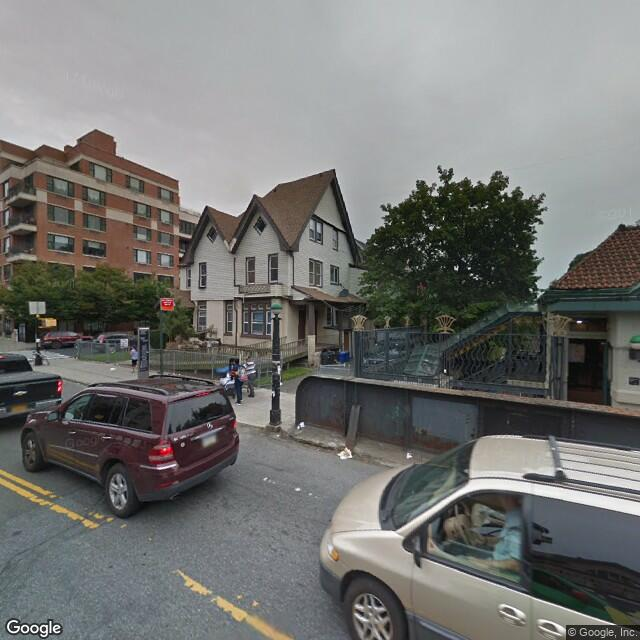litter: (326, 444, 358, 462), (400, 445, 418, 464), (105, 364, 127, 378), (292, 419, 312, 433)
